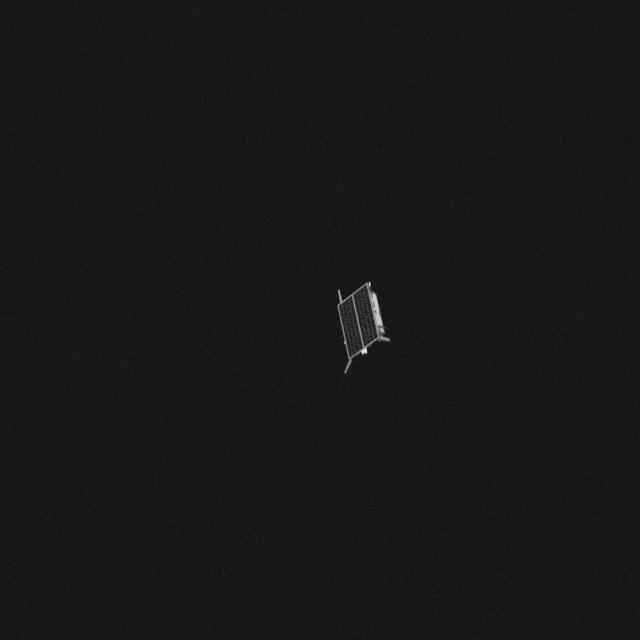satellite: (330, 280, 402, 384)
